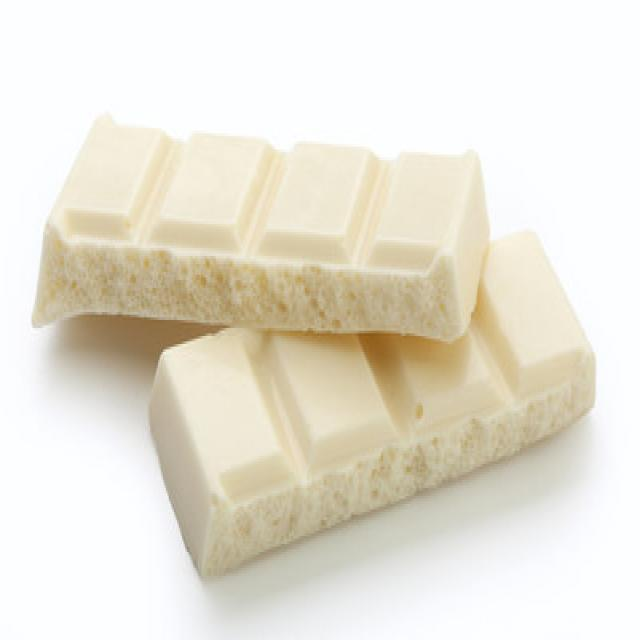Chocolate: (146, 220, 599, 578), (33, 91, 491, 348)
